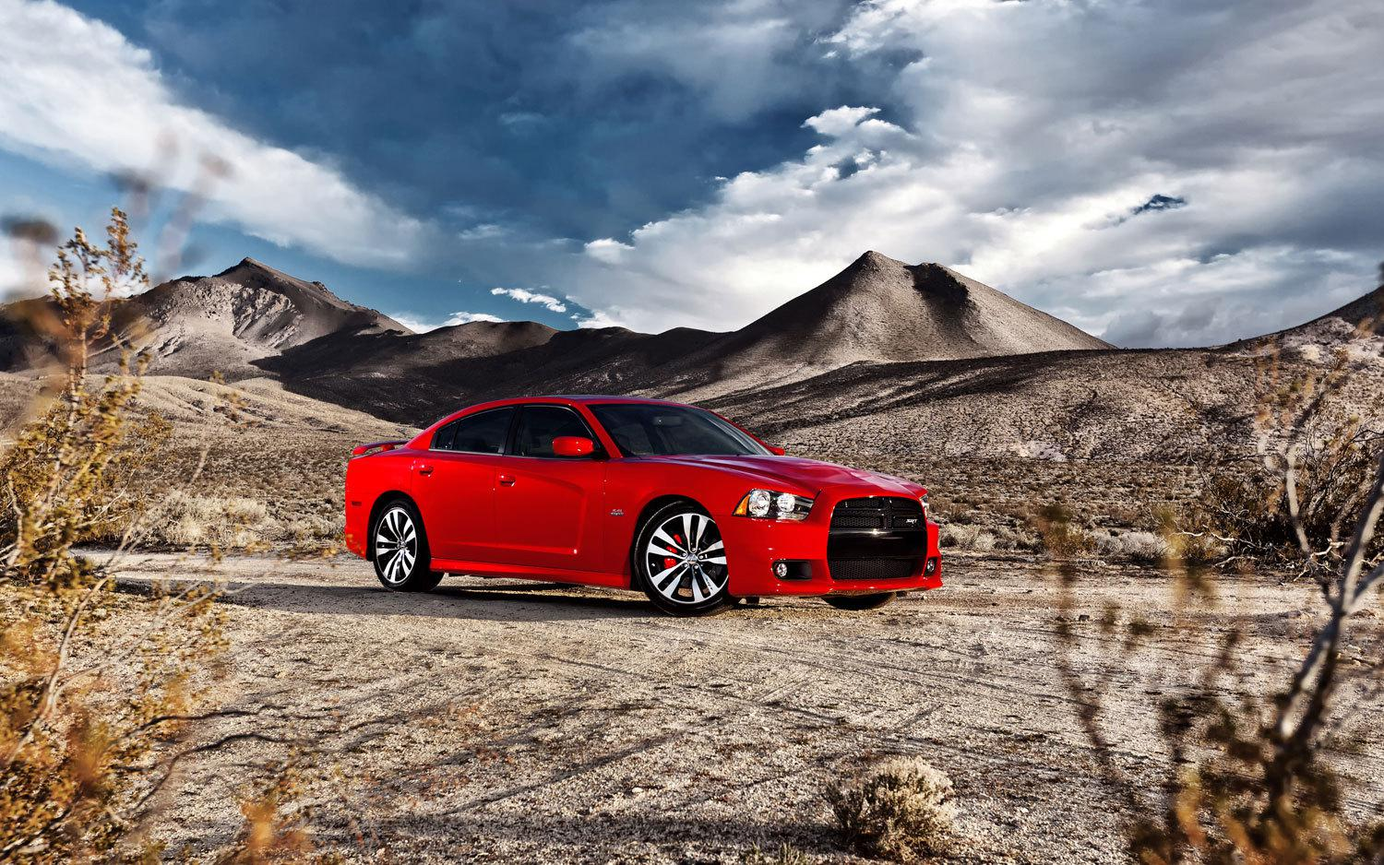Car: (318, 360, 966, 655)
